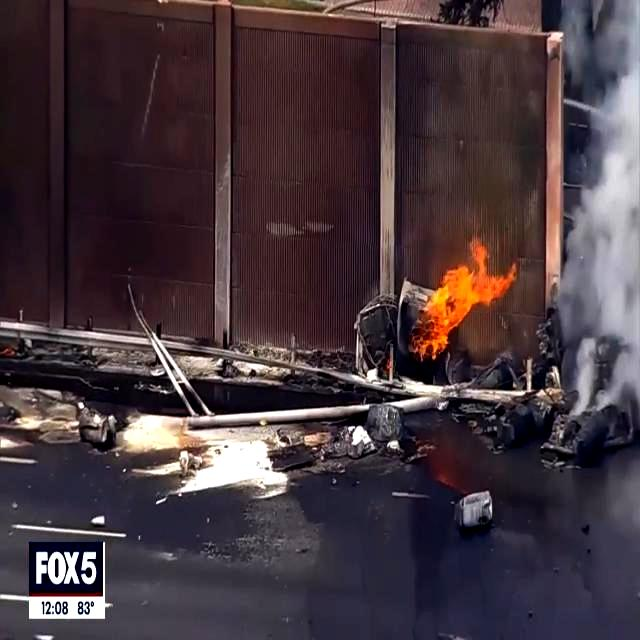fire: (410, 237, 518, 363)
